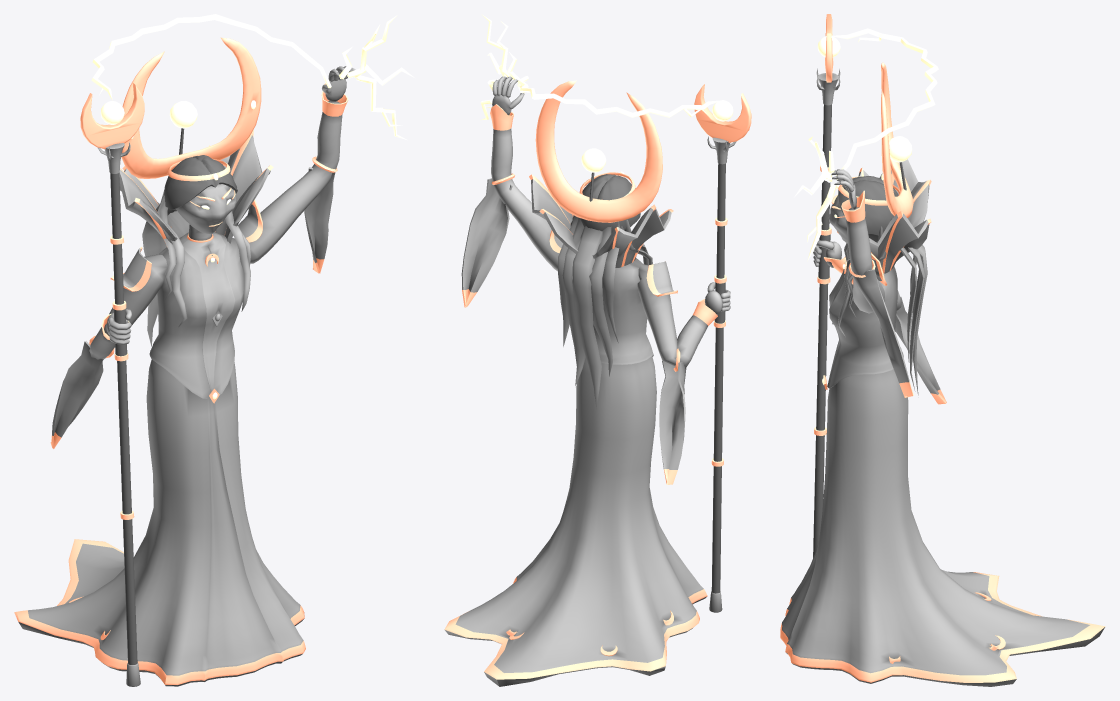
The model's file is sorceress.glb.
3 views of the same model, side by side, from view 1: azimuth 30°, elevation 25°; view 2: azimuth 150°, elevation 25°; view 3: azimuth 270°, elevation 25° (orthographic). The views are drawn at different scales.
Parts seen in each view (by area): view 1: Sorceress; view 2: Sorceress; view 3: Sorceress.
Boxes of the visible parts, box(x1,y1,x2,y2) form: Sorceress: box(14, 14, 414, 686); Sorceress: box(444, 14, 751, 686); Sorceress: box(780, 14, 1105, 686).
Size of the model in its own units: 0.7812 by 1.43 by 0.7378.
